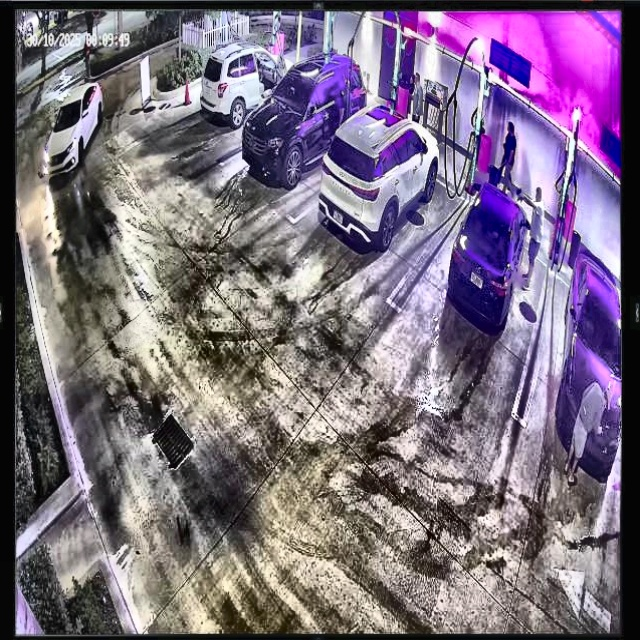Car: (317, 108, 440, 247), (243, 48, 364, 187), (449, 180, 529, 333)
